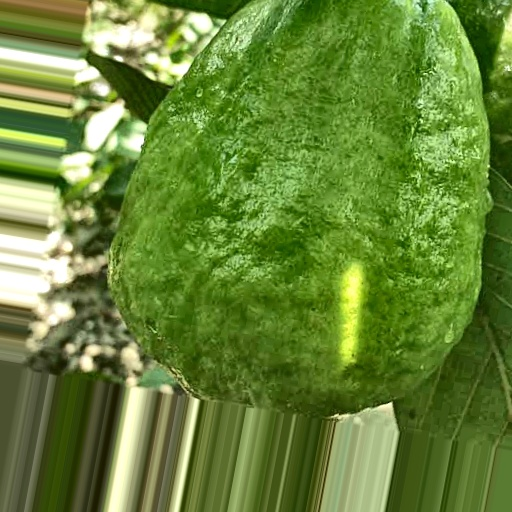guava: (101, 120, 437, 485)
